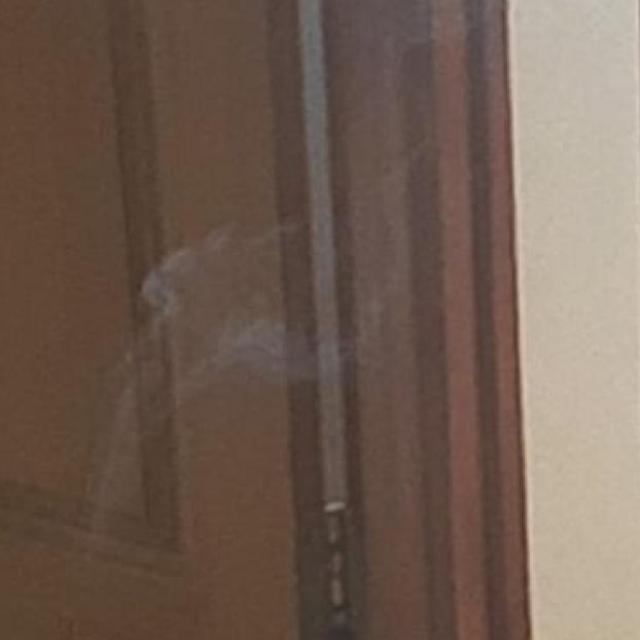fire: (24, 180, 467, 586)
